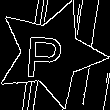P_N: (29, 27, 72, 81)
